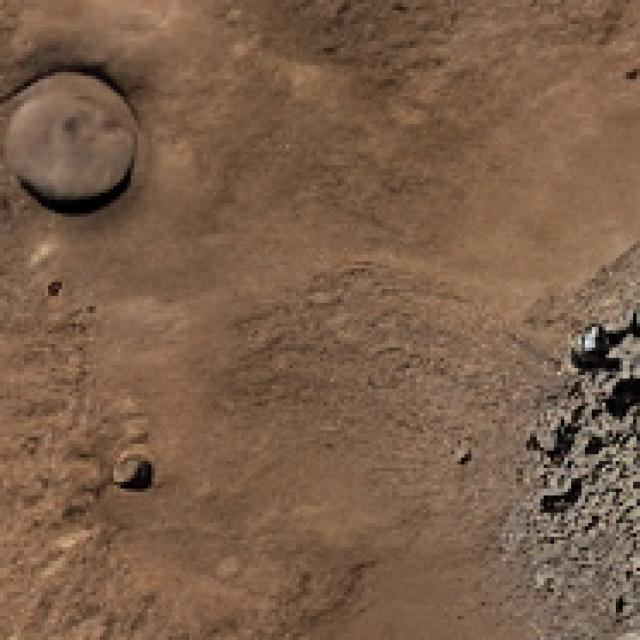Crater: (0, 31, 179, 231)
